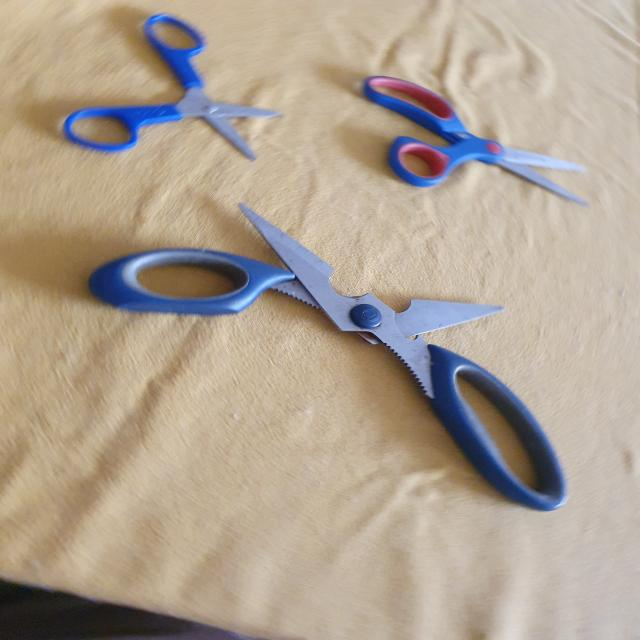scissors: (83, 204, 572, 513), (55, 10, 284, 161), (360, 72, 587, 208)
